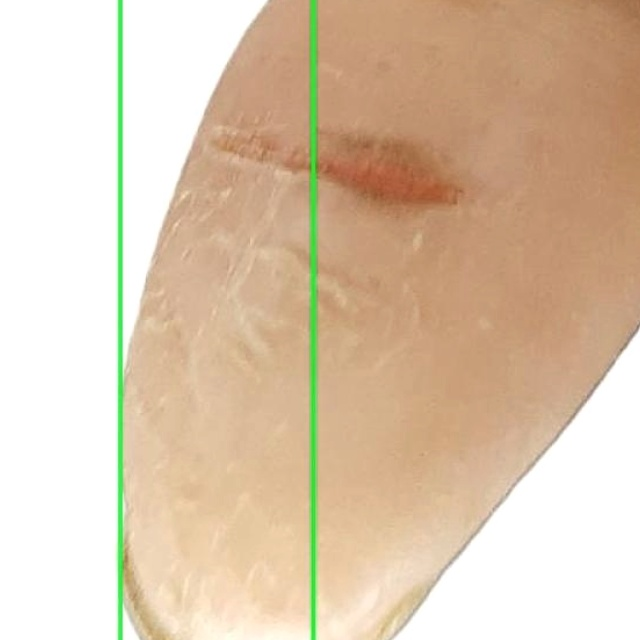Contact Dermatitis: (120, 0, 639, 639), (0, 0, 313, 639)
